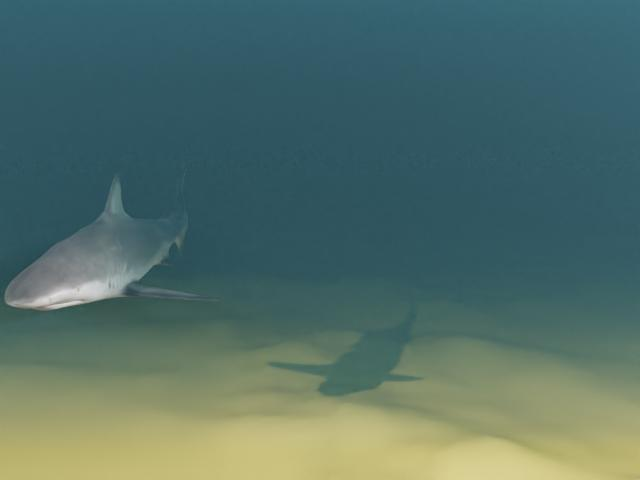Carribean Shark.001: (4, 159, 220, 310)
